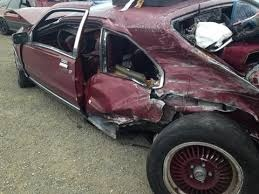Smashed: (78, 17, 259, 163)
